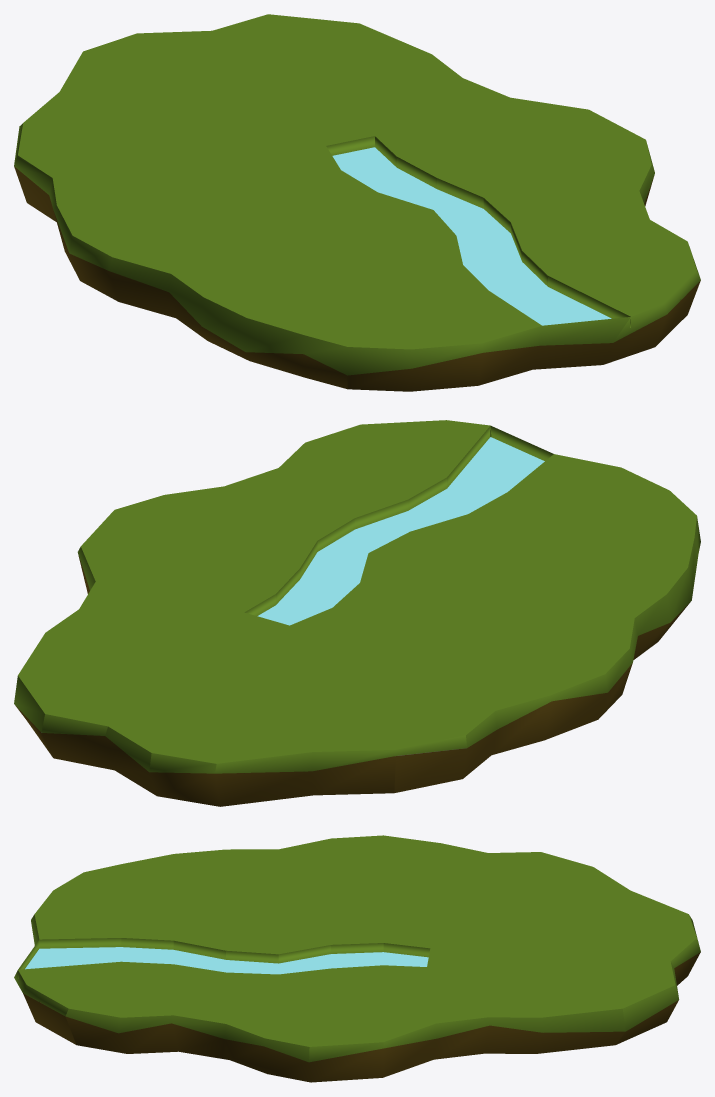
File: ground.fbx
3 renders of one model, top to bottom at view 1: azimuth 30°, elevation 25°; view 2: azimuth 150°, elevation 25°; view 3: azimuth 270°, elevation 25°, orthographic. The views are drawn at different scales.
Visible parts, largest first — view 1: _ground; view 2: _ground; view 3: _ground.
Boxes of the visible parts, bbox=[...] form: _ground: bbox=[14, 14, 700, 391]; _ground: bbox=[14, 420, 700, 806]; _ground: bbox=[14, 835, 700, 1082].
Size of the model in its own units: 35.5 by 4.16 by 48.16.
1 material, 1 textured.
